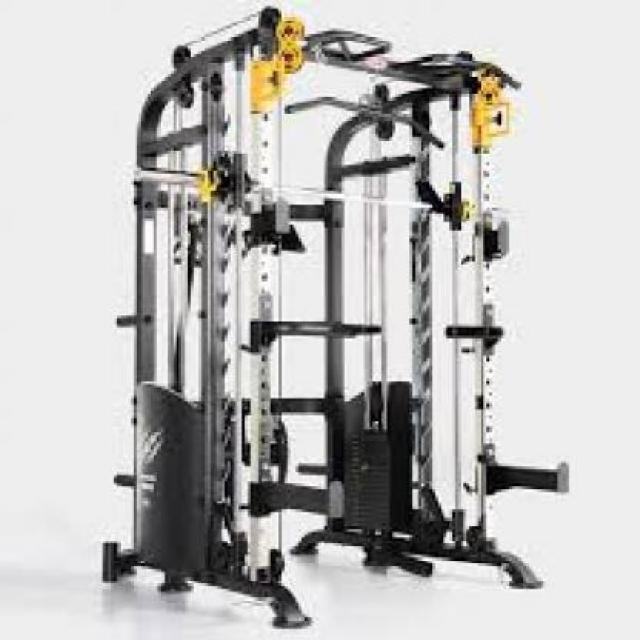smith machine: (102, 6, 570, 631)
